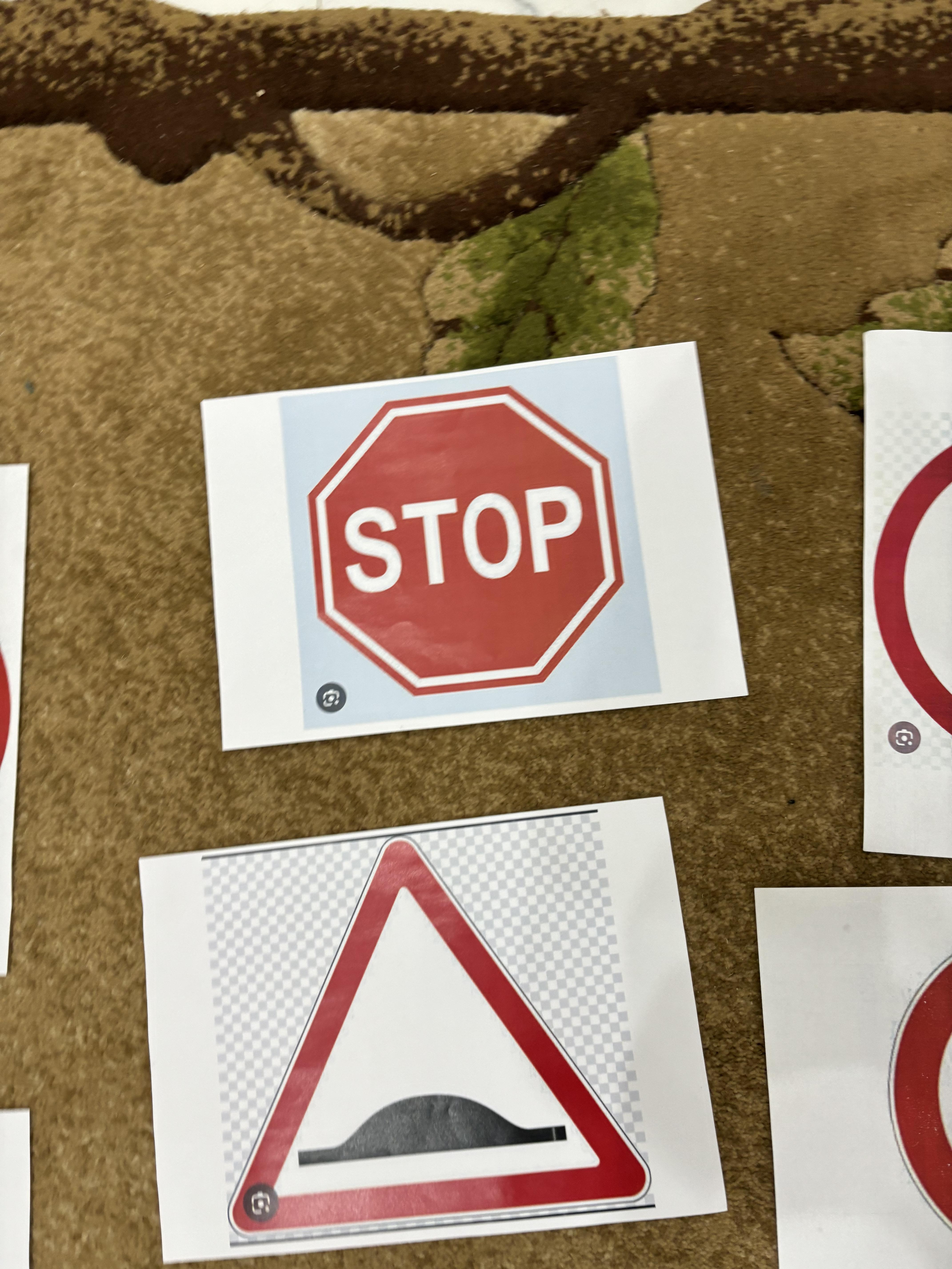Hump: (198, 820, 669, 1245)
Stop: (305, 387, 628, 700)
